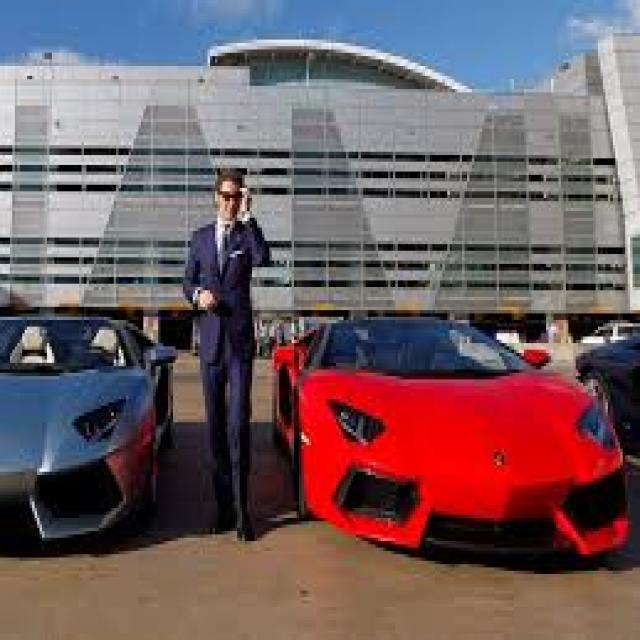car: (280, 308, 632, 571), (1, 315, 172, 554)
person: (177, 163, 276, 548)
